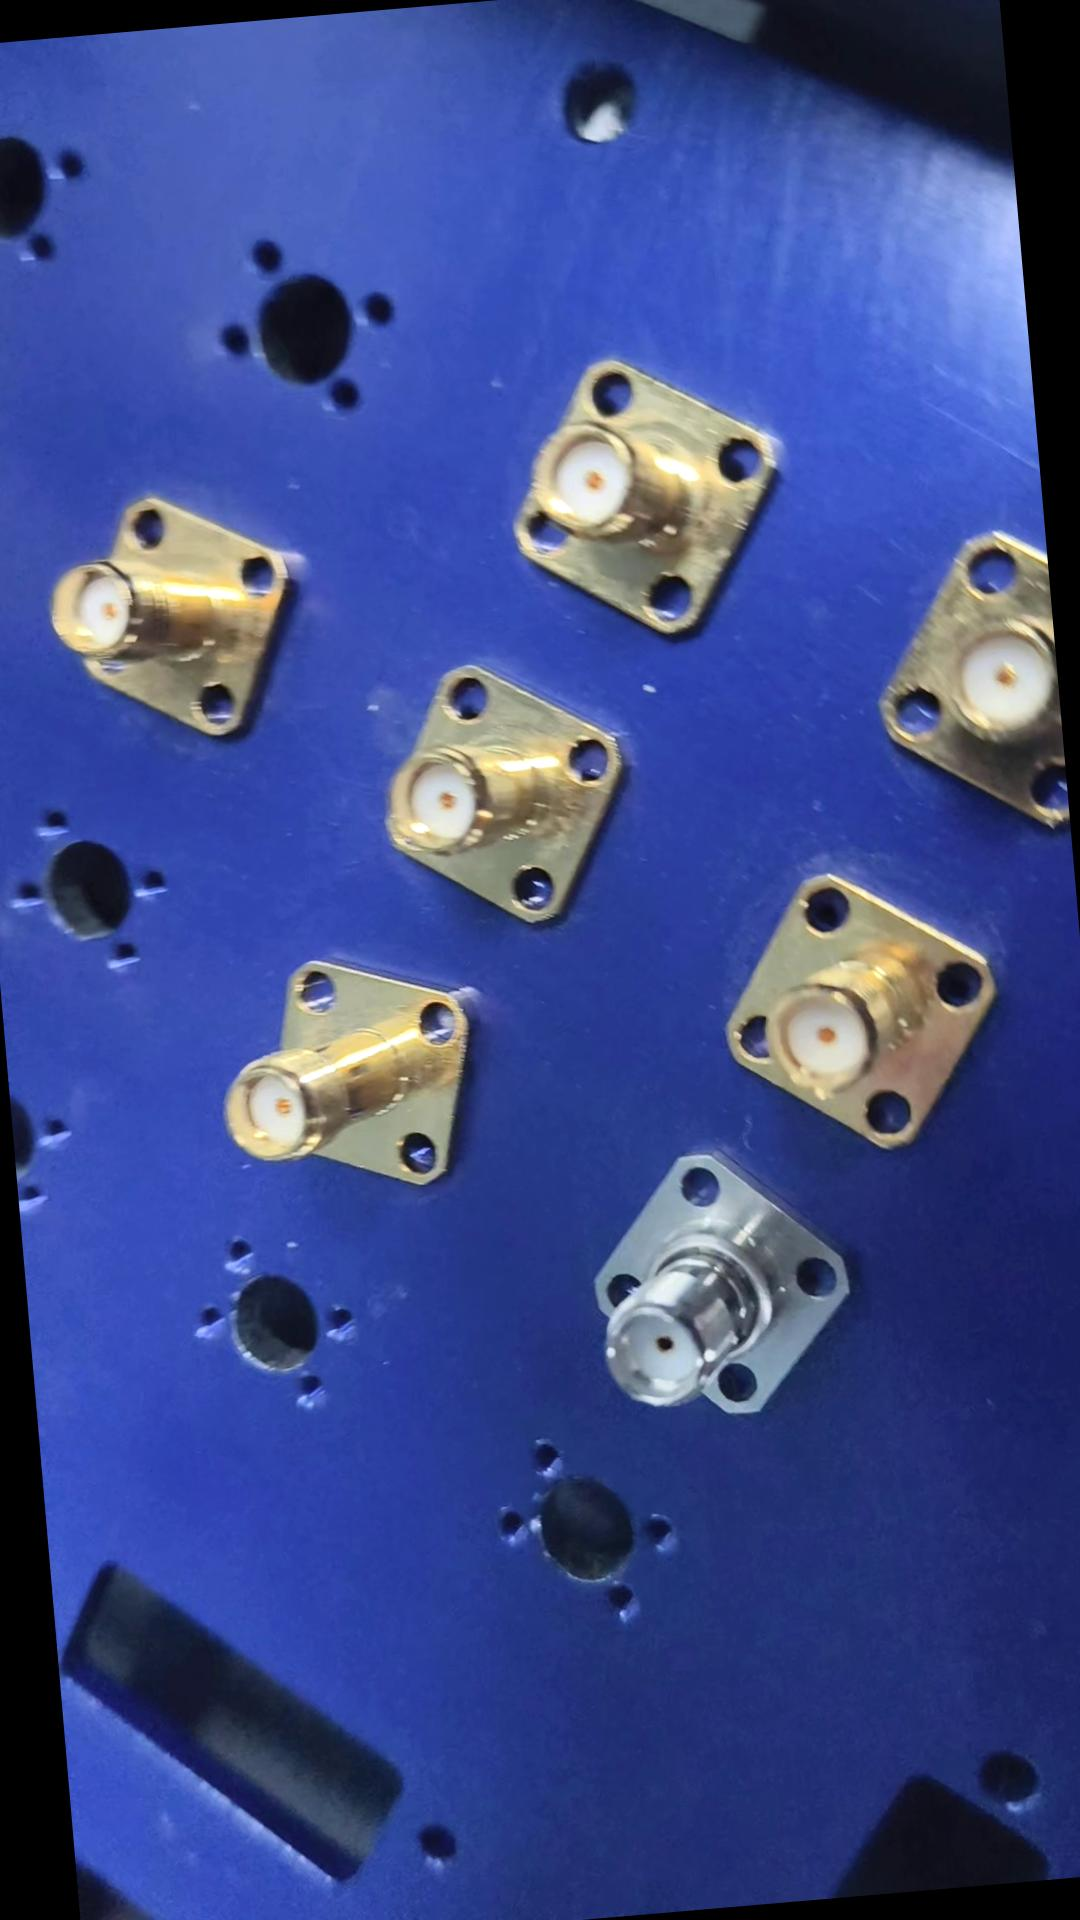SMA: (702, 847, 1004, 1164), (568, 1125, 857, 1441), (498, 343, 781, 651), (363, 647, 624, 943), (42, 483, 309, 761), (204, 948, 484, 1209)
